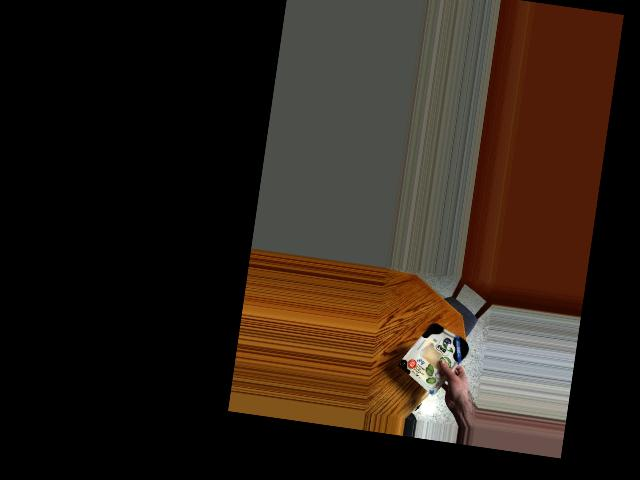cheese: (402, 314, 472, 389)
